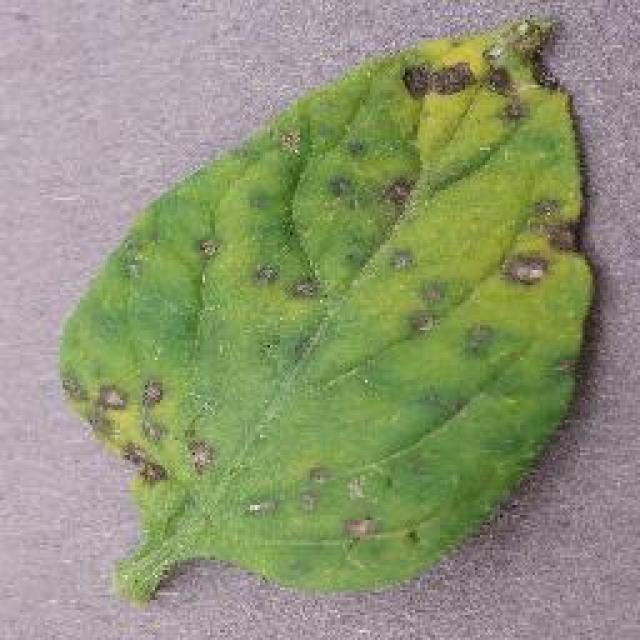Tomato___Septoria_leaf_spot: (60, 18, 590, 598)
